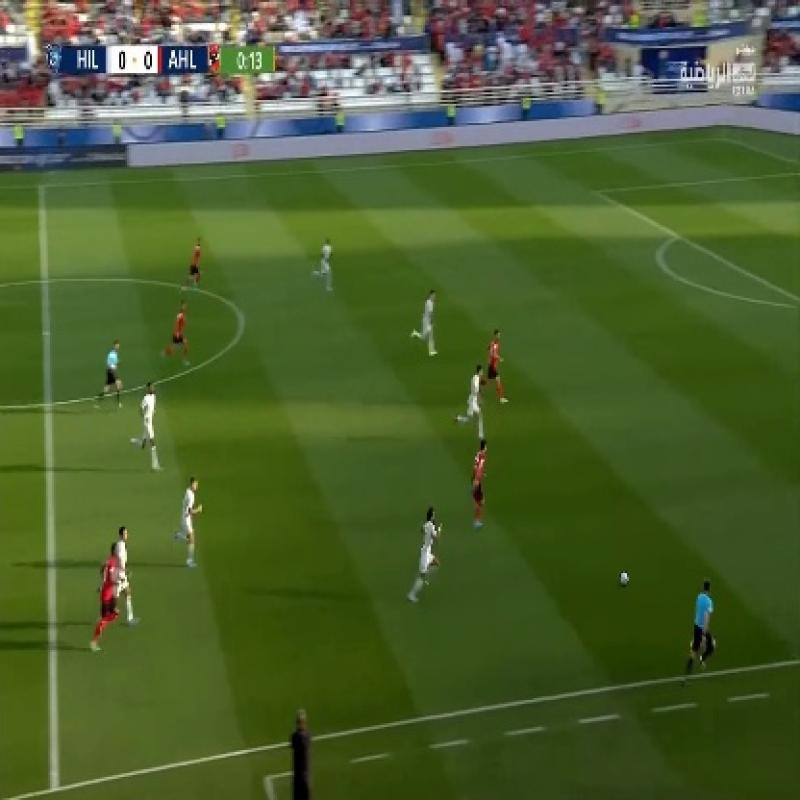1: (708, 127, 734, 146)
10: (658, 219, 690, 250)
13: (31, 175, 50, 198)
14: (32, 266, 57, 294)
15: (32, 384, 62, 426)
9: (586, 179, 610, 202)
c: (231, 303, 256, 334)
